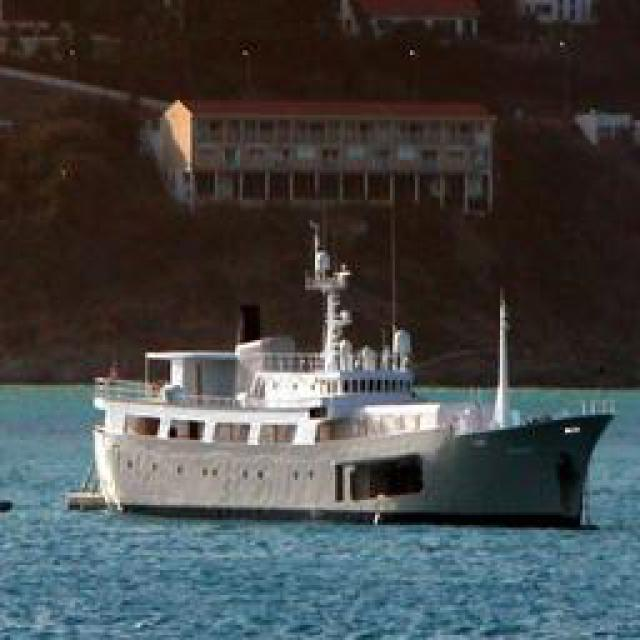Ship: (97, 386, 617, 526)
